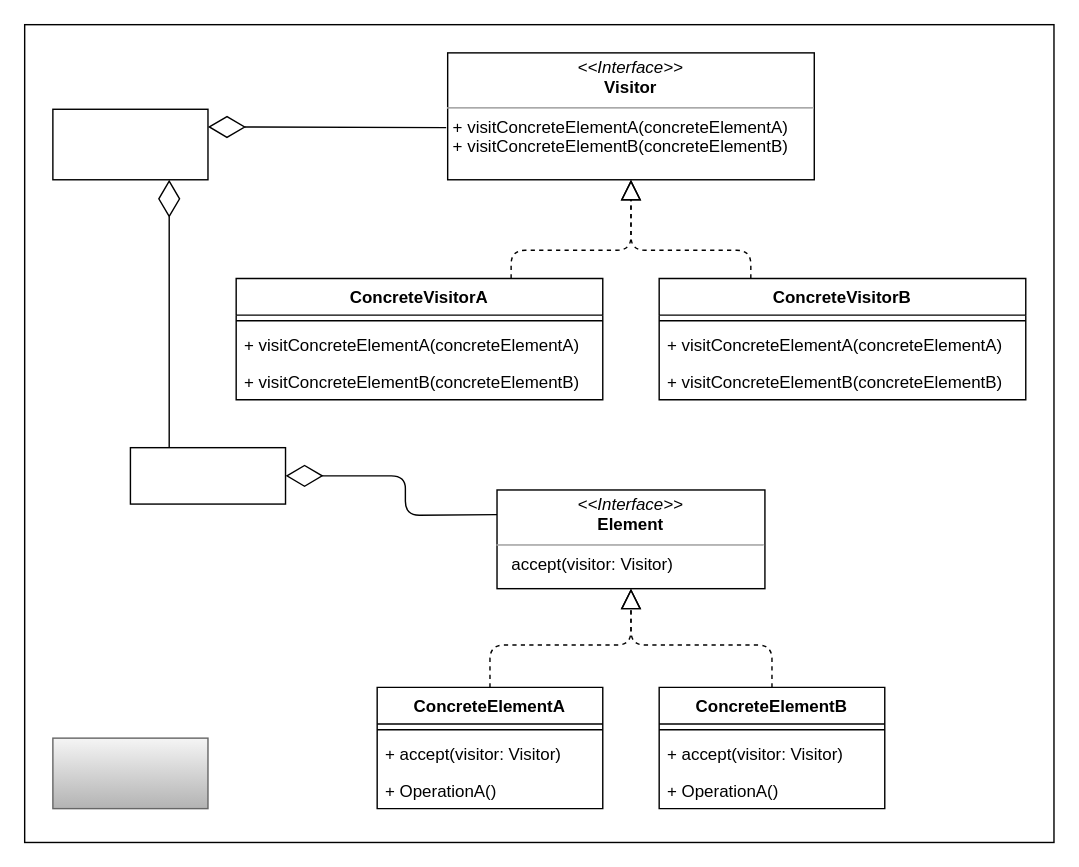
This 1079x867 diagram has some shape labels left out. The box of each missing label's shape, as (x1, y1, x2, y2) in pixels:
Client: (51, 108, 208, 180)
ObjectStructure: (129, 446, 286, 504)
Visitor: (51, 737, 208, 809)
